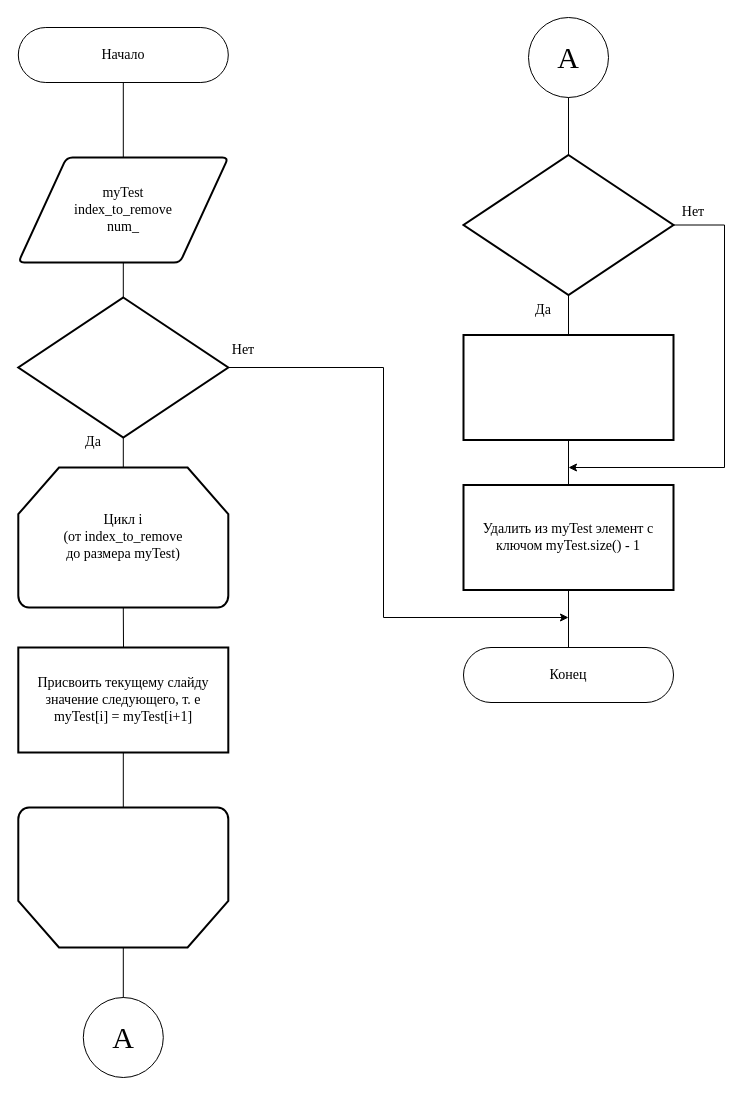
The diagram is 750 pixels wide and 1095 high, and some of its shapes have lost their labels. The box of each missing label's shape, as (x1, y1, x2, y2) in pixels:
index_to_remove >= 0 и index_to_remove <= размера myTest: (17, 296, 229, 438)
Если index_to_remove == размеру myTest – 1 и index_to_remove >= 0: (462, 154, 674, 296)
Отнять от num_of_slide 1: (462, 334, 674, 440)
Цикл i Увеличить i на 1: (17, 806, 229, 948)
